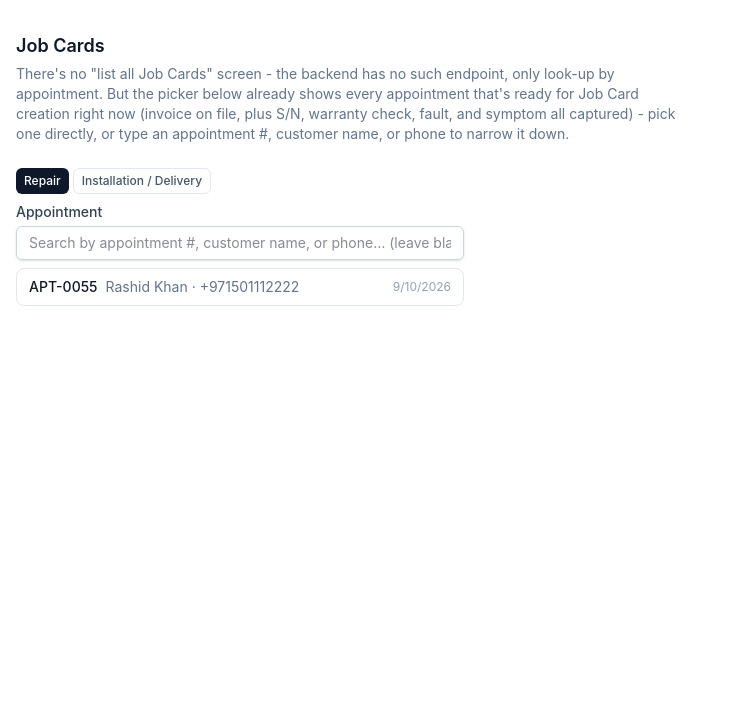
Scenario: JobCardsPage - JOB_CARD_MANAGE capability gate › shows Assign Section, Record customer approval, and Cancel for a role granted JOB_CARD_MANAGE via Designation access, not just a default role
Click the text "APT-0055".
click(63, 286)  # box x1=29 y1=278 x2=98 y2=295
(page scrolled)
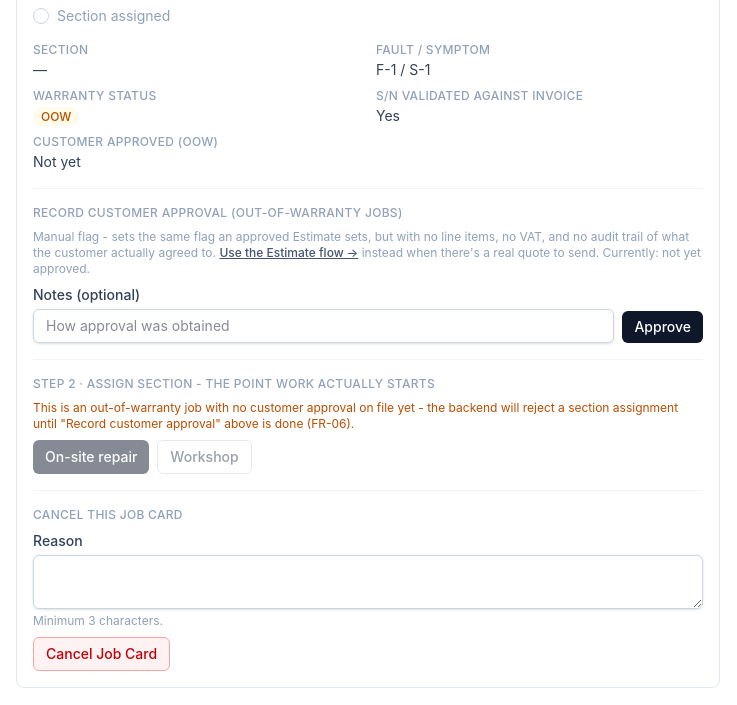
expect the text "Step 2 · Assign section - the point work actually starts" is shown: met, box x1=33 y1=376 x2=435 y2=391
expect the text "Record customer approval (out-of-warranty jobs)" is shown: met, box x1=33 y1=205 x2=403 y2=220
expect the text "Cancel this Job Card" is shown: met, box x1=33 y1=507 x2=183 y2=522
